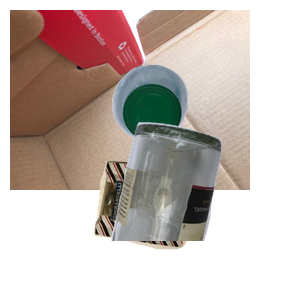cardboard: (10, 10, 250, 190)
glass: (109, 120, 300, 300)
plastic: (110, 62, 300, 198)
trash: (92, 158, 277, 300)
